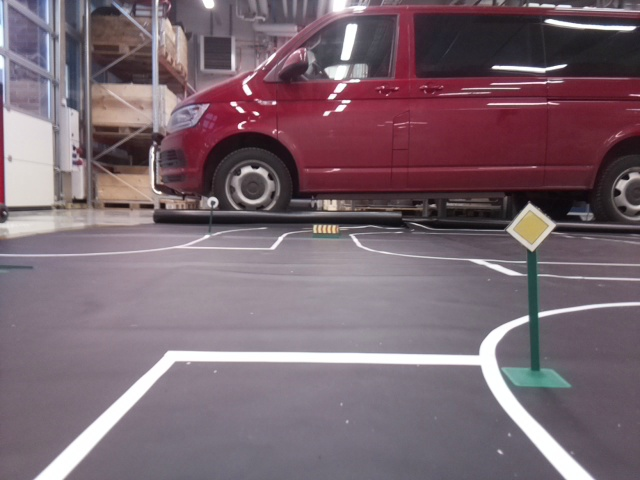Priority: (506, 204, 553, 252)
